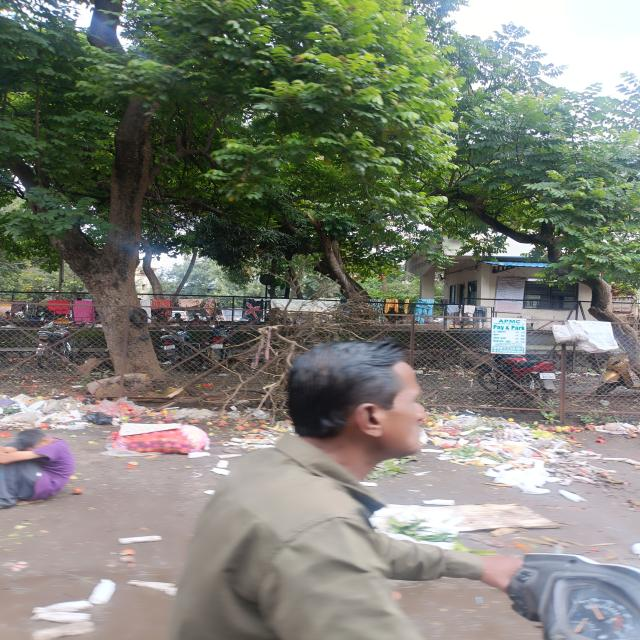garbage: (428, 408, 640, 489), (5, 391, 201, 427)
